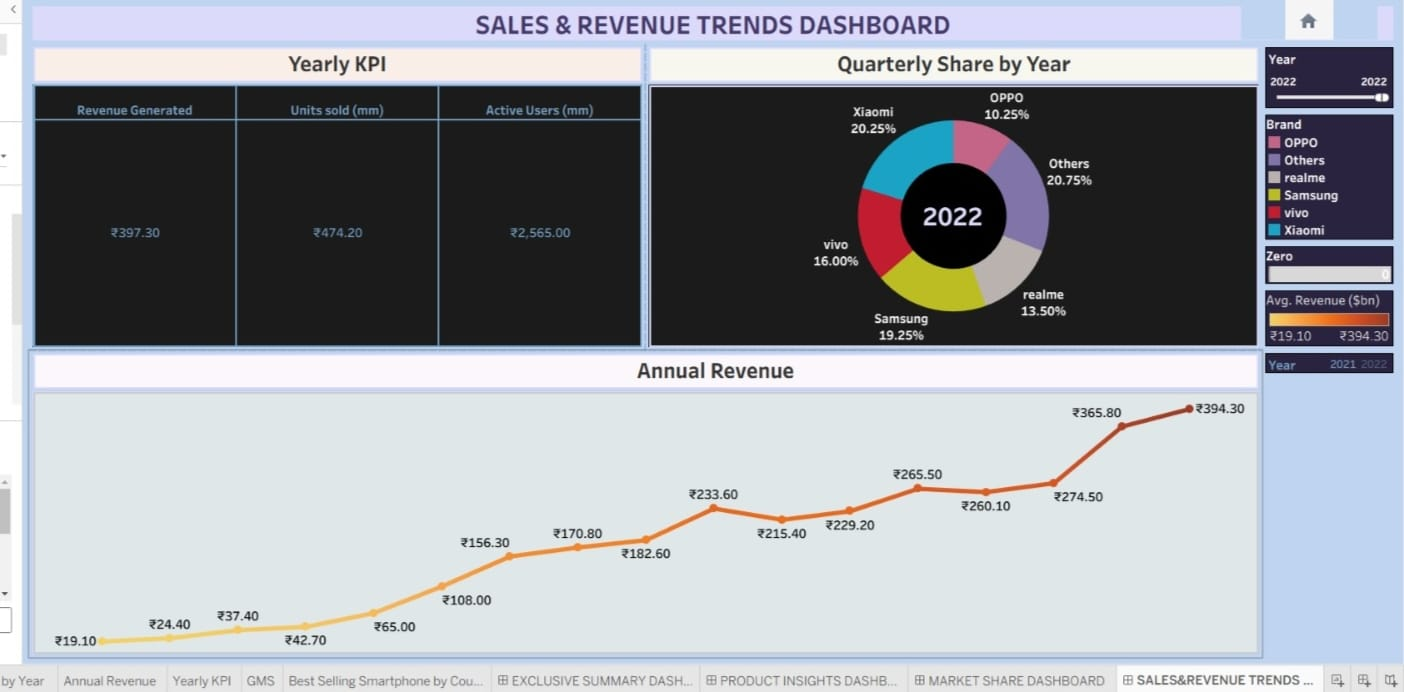

Layout of this report page (visuals, bound fields, positions):
{"tool":"tableau","page":{"name":"SALES&REVENUE TRENDS DASHBOARD","canvas":[1000,1000],"units":"permille","ordinal":3},"visuals":[{"type":"dashboard-object","box":[882.3,3.5,99,61.1]},{"type":"title","box":[4.8,10,990.3,61.2]},{"type":"worksheet","title":"Yearly KPI","mark":"Automatic","box":[4.8,71.2,446.2,459.4]},{"type":"worksheet","title":"Quarterly Share by Year","mark":"Pie","cols":["Calculation_0746604585623561","Calculation_0746604585623561"],"box":[451,71.2,446.4,459.4]},{"type":"filter","title":"Quarterly Share by Year","param":"[federated.01jyaud1utqddv19qhbl01gcg18d].[none:Year:qk]","box":[897.4,71.2,97.8,101.1]},{"type":"legend","title":"Quarterly Share by Year","param":"[federated.01jyaud1utqddv19qhbl01gcg18d].[none:Brand:nk]","box":[897.4,172.3,97.8,197.3]},{"type":"legend","title":"Quarterly Share by Year","param":"[federated.01jyaud1utqddv19qhbl01gcg18d].[usr:Calculation_0746604585623561:qk]","box":[897.4,369.6,97.8,66.2]},{"type":"legend","title":"Annual Revenue","param":"[federated.17rq42b13rsi4c1e2o2o007kr0sk].[avg:Revenue ($bn):qk]","box":[897.4,435.7,97.8,93.6]},{"type":"filter","title":"Yearly KPI","param":"[federated.0i89eq003z1xbh19iqlgt1wvpgns].[none:Year:qk]","box":[897.4,529.4,97.8,40]},{"type":"worksheet","title":"Annual Revenue","mark":"Automatic","rows":["Revenue ($bn)"],"cols":["Year","Year"],"box":[4.8,530.6,892.6,459.4]}]}

Visuals, with their boxes on the dashboard's canvas, which has no fixed pixel size, in thousandths of its width and height (x1, y1, x2, y2). These are canvas units, not pixel positions in the 1404x692 screenshot, which may show the page scaled, cropped or inside an application window:
dashboard-object: crop(882, 4, 981, 65)
title: crop(5, 10, 995, 71)
"Yearly KPI" worksheet: crop(5, 71, 451, 531)
"Quarterly Share by Year" worksheet (Pie marks): crop(451, 71, 897, 531)
"Quarterly Share by Year" filter: crop(897, 71, 995, 172)
"Quarterly Share by Year" legend: crop(897, 172, 995, 370)
"Quarterly Share by Year" legend: crop(897, 370, 995, 436)
"Annual Revenue" legend: crop(897, 436, 995, 529)
"Yearly KPI" filter: crop(897, 529, 995, 569)
"Annual Revenue" worksheet: crop(5, 531, 897, 990)
